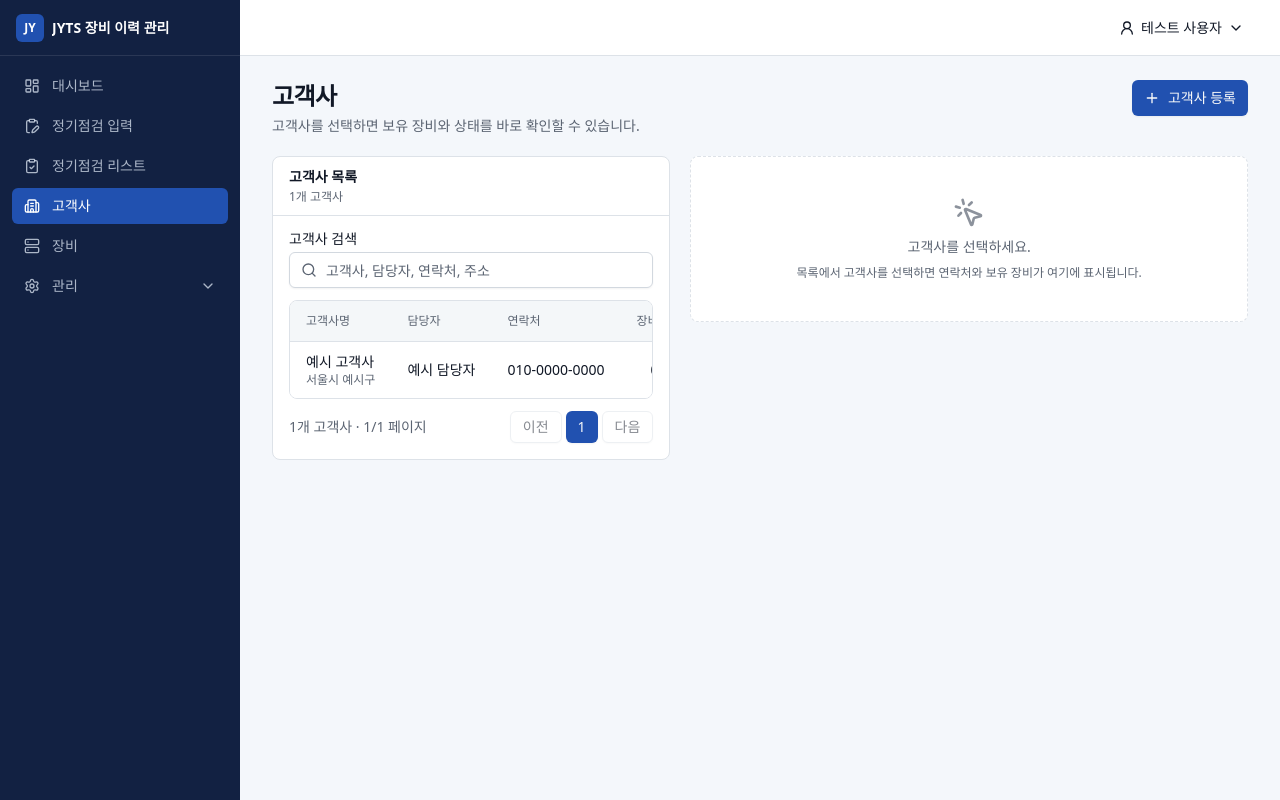
organization page › lets administrators create an organization
Click the button "고객사 등록" at x=1190, y=98, box top-left (1132, 80), bottom-right (1248, 116)
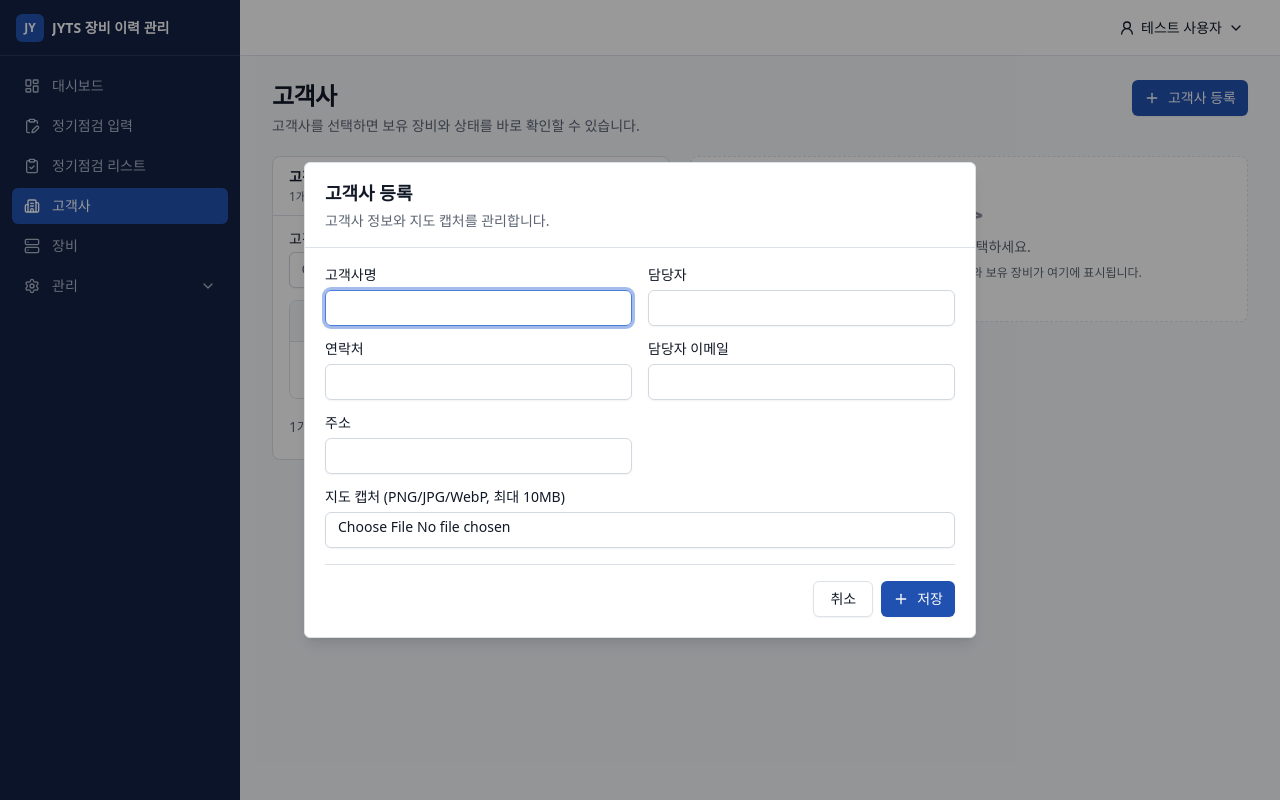
Type "새 고객사" into the field labelled "고객사명" at x=478, y=308, box top-left (325, 290), bottom-right (632, 326)
Type "invalid" into the field labelled "담당자 이메일" at x=802, y=382, box top-left (648, 364), bottom-right (955, 400)
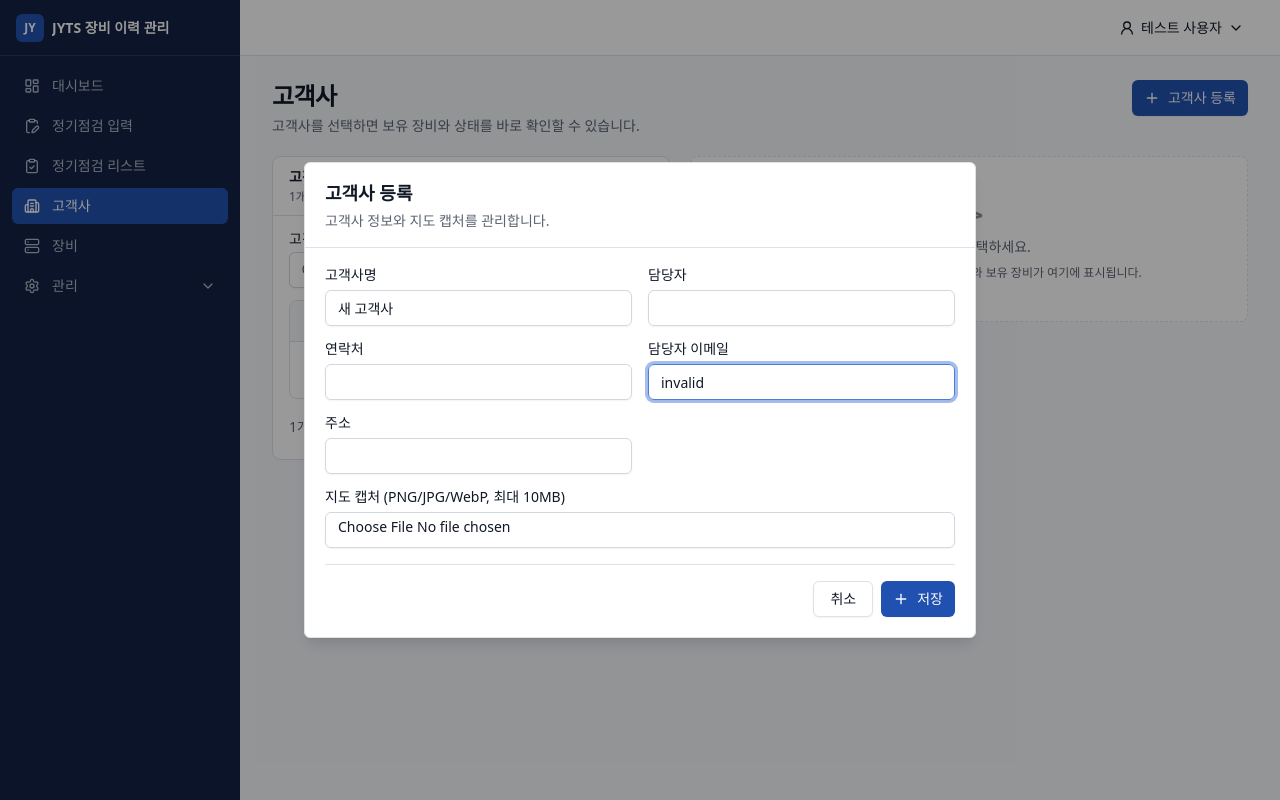
Click the button "저장" at x=918, y=599, box top-left (881, 581), bottom-right (955, 617)
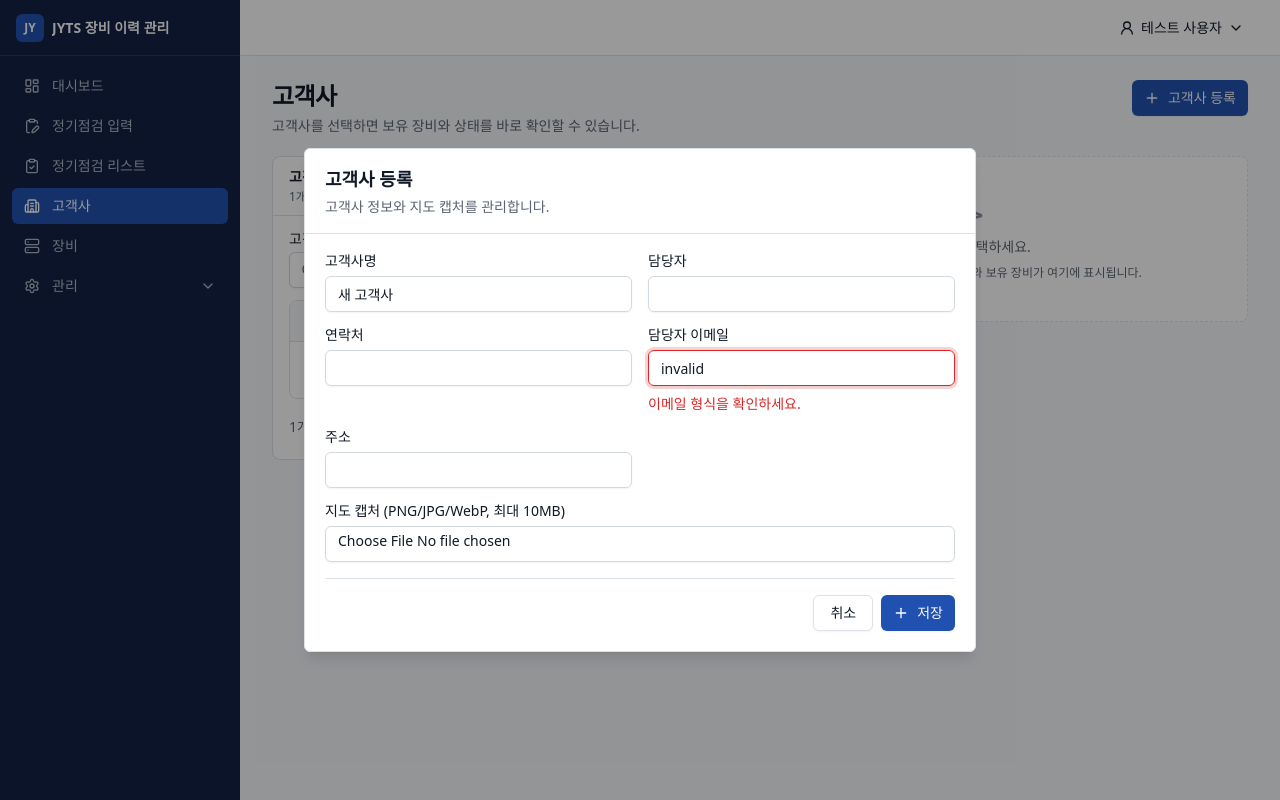
expect the text "이메일 형식을 확인하세요." is shown: met, box top-left (648, 394), bottom-right (801, 413)
Clear the field labelled "담당자 이메일" at x=802, y=368, box top-left (648, 350), bottom-right (955, 386)
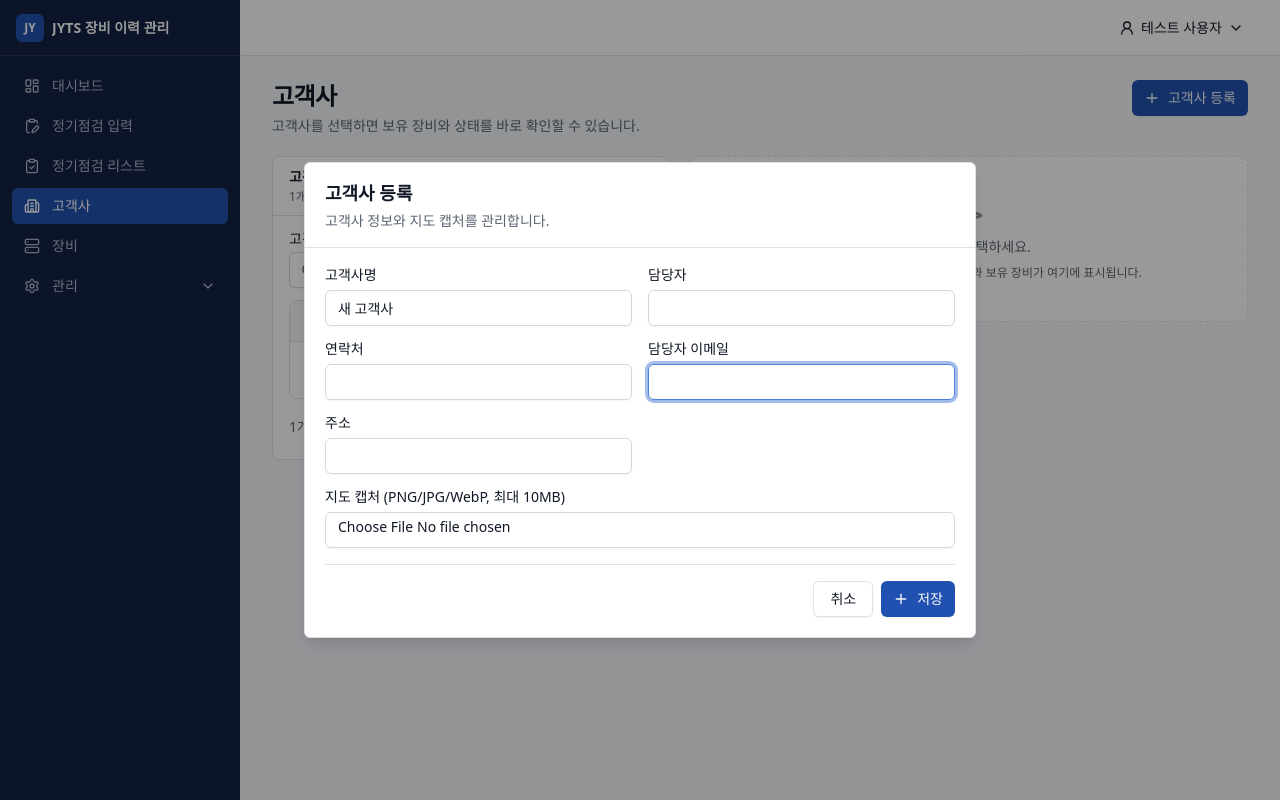
Type "manager@example.com" into the field labelled "담당자 이메일" at x=802, y=382, box top-left (648, 364), bottom-right (955, 400)
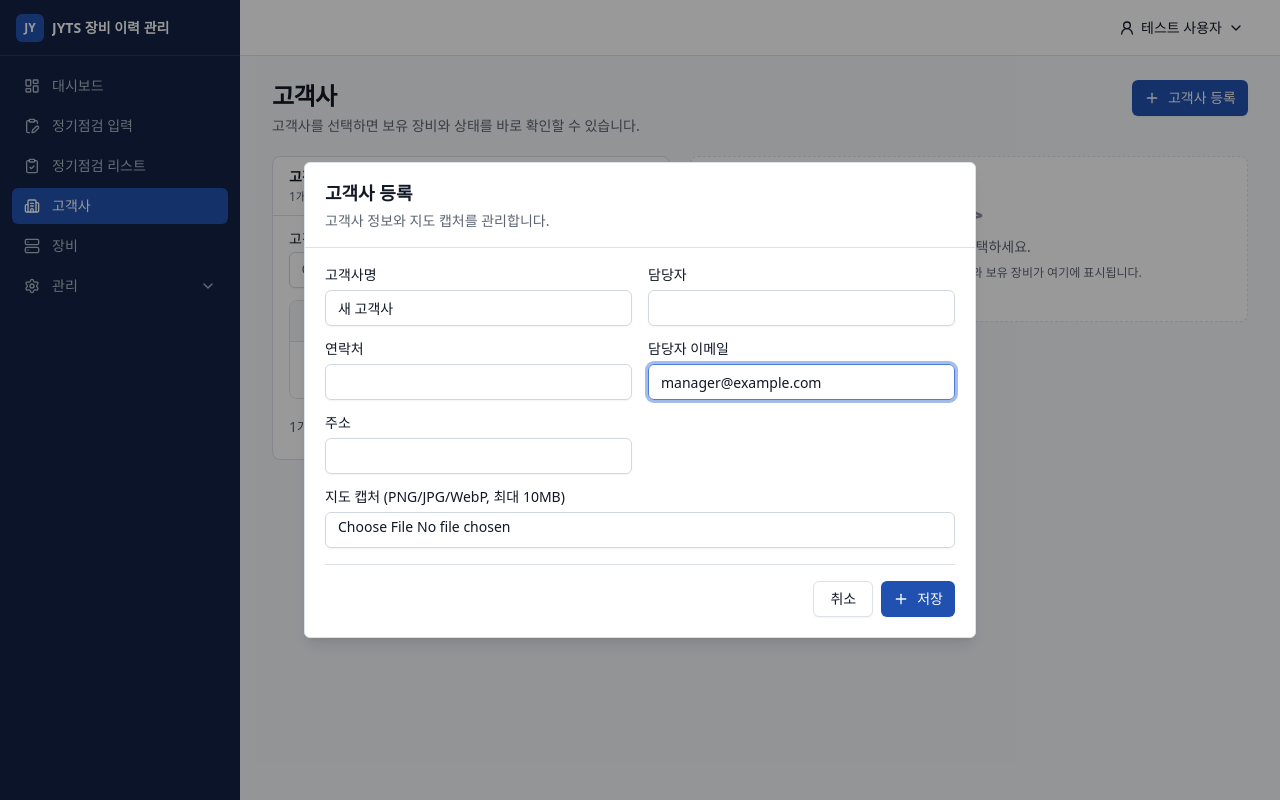
Click the button "저장" at x=918, y=599, box top-left (881, 581), bottom-right (955, 617)
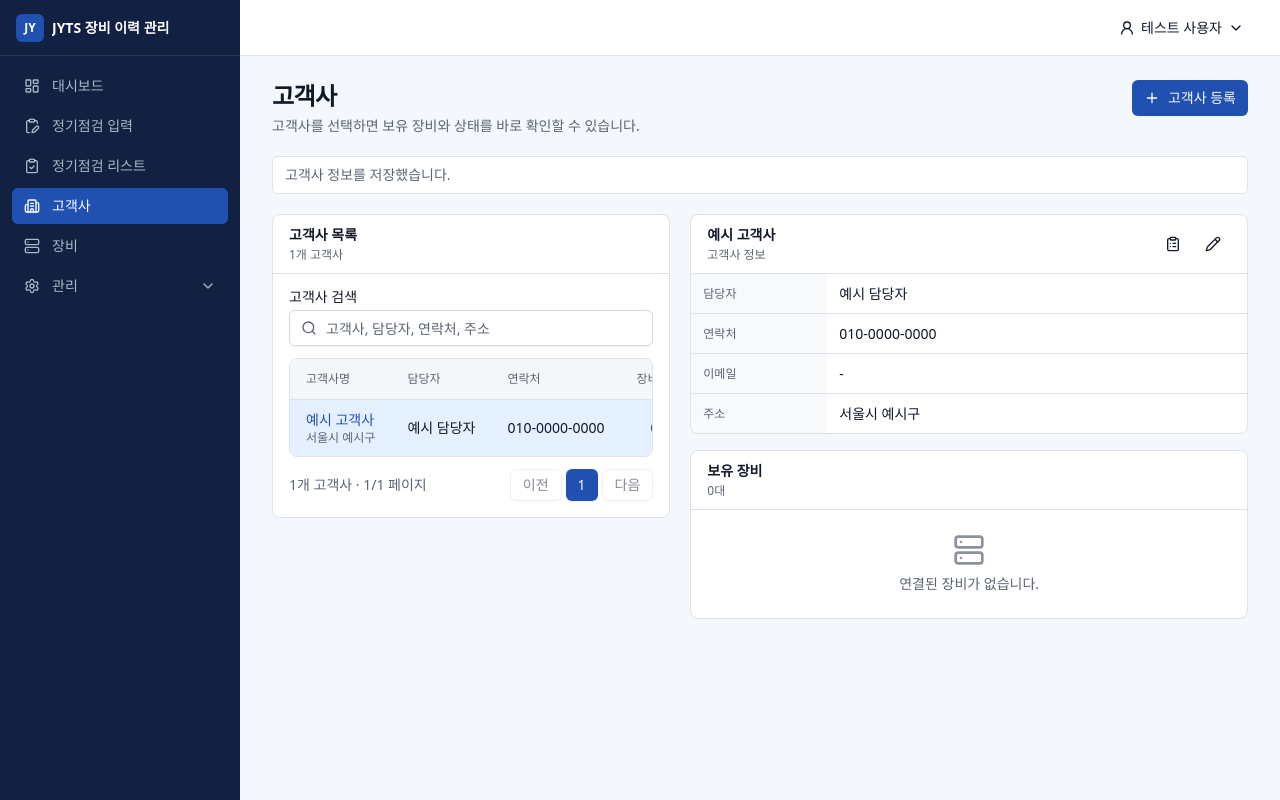
expect the message reads "고객사 정보를 저장했습니다.": met, box top-left (285, 165), bottom-right (451, 184)
expect the dialog is gone: met
